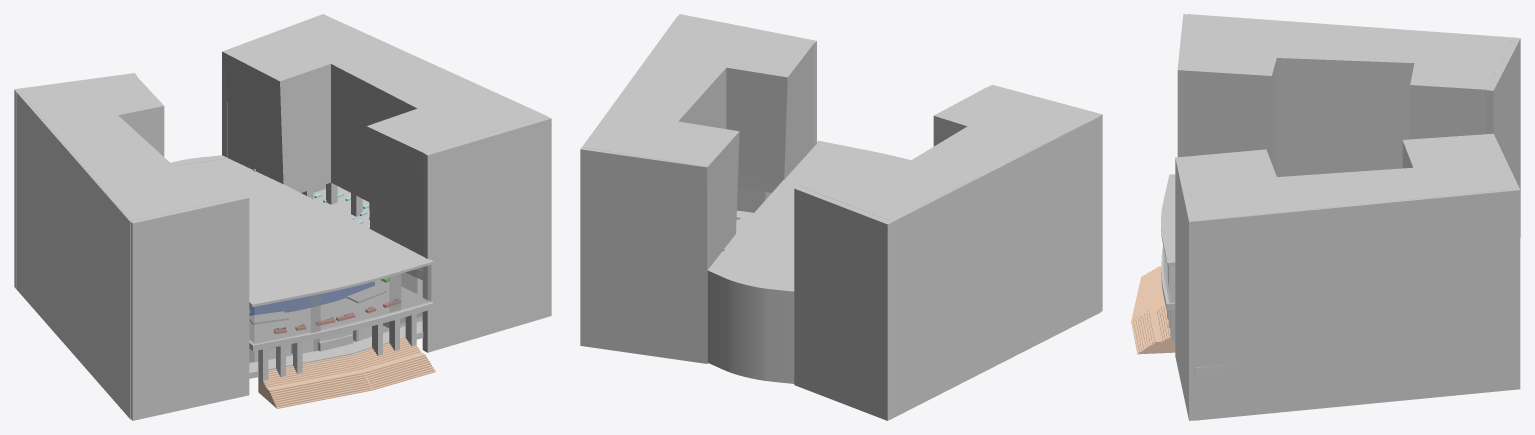
The model's file is academia-sinica.glb.
The picture shows the model from 3 angles, left to right: view 1: azimuth 30°, elevation 25°; view 2: azimuth 150°, elevation 25°; view 3: azimuth 270°, elevation 25°; orthographic projection.
Parts seen in each view (by area): view 1: floor__outside__building_r_main, floor__outside__building_r_front_wall, floor__outside__building_r_front_wall.001, floor__outside__building_r_right_wall.001, floor__outside__building_r_main.001, floor__outside__top_ceiling, floor__outside__front_4f_glass, floor__1f__stairs_1f, floor__4f__4f_base_base, floor__1f__1f_base, floor__4f__room_r0_4f, floor__outside__building_r_back_wall.001 (+2 smaller); view 2: floor__outside__building_r_right_wall.001, floor__outside__building_r_main, floor__outside__building_r_back_wall, floor__outside__building_r_back_wall.001, floor__outside__building_r_main.001, floor__outside__back_wall, floor__outside__top_ceiling, floor__outside__building_r_front_wall.001, floor__outside__building_r_front_wall, floor__elevators__elevator_shaft_r; view 3: floor__outside__building_r_right_wall, floor__outside__building_r_main.001, floor__outside__building_r_main, floor__outside__building_r_front_wall, floor__outside__building_r_back_wall.001, floor__1f__stairs_1f, floor__outside__building_r_back_wall, floor__outside__top_ceiling, floor__outside__building_r_front_wall.001, floor__4f__4f_base_base, floor__outside__building_r_right_wall.001, floor__outside__front_4f_glass.
Part boxes in pixels (x1=…): floor__outside__building_r_main: x1=222, y1=16, x2=545, y2=271; floor__outside__building_r_front_wall: x1=422, y1=116, x2=551, y2=352; floor__outside__building_r_front_wall.001: x1=130, y1=195, x2=249, y2=420; floor__outside__building_r_right_wall.001: x1=17, y1=92, x2=130, y2=419; floor__outside__building_r_main.001: x1=20, y1=76, x2=250, y2=312; floor__outside__top_ceiling: x1=174, y1=158, x2=433, y2=307; floor__outside__front_4f_glass: x1=249, y1=265, x2=430, y2=344; floor__1f__stairs_1f: x1=258, y1=337, x2=435, y2=408; floor__4f__4f_base_base: x1=249, y1=186, x2=433, y2=351; floor__1f__1f_base: x1=249, y1=316, x2=423, y2=378; floor__4f__room_r0_4f: x1=249, y1=281, x2=374, y2=315; floor__outside__building_r_back_wall.001: x1=14, y1=73, x2=137, y2=289; floor__outside__building_r_right_wall.001: x1=891, y1=116, x2=1100, y2=417; floor__outside__building_r_main: x1=585, y1=17, x2=813, y2=266; floor__outside__building_r_back_wall: x1=580, y1=146, x2=709, y2=363; floor__outside__building_r_back_wall.001: x1=794, y1=186, x2=893, y2=420; floor__outside__building_r_main.001: x1=800, y1=86, x2=1098, y2=220; floor__outside__back_wall: x1=707, y1=266, x2=794, y2=383; floor__outside__top_ceiling: x1=711, y1=140, x2=910, y2=287; floor__outside__building_r_front_wall.001: x1=989, y1=84, x2=1102, y2=311; floor__outside__building_r_front_wall: x1=677, y1=14, x2=816, y2=146; floor__elevators__elevator_shaft_r: x1=737, y1=187, x2=771, y2=212; floor__outside__building_r_right_wall: x1=1195, y1=189, x2=1512, y2=420; floor__outside__building_r_main.001: x1=1184, y1=14, x2=1511, y2=176; floor__outside__building_r_main: x1=1182, y1=133, x2=1514, y2=220; floor__outside__building_r_front_wall: x1=1175, y1=157, x2=1196, y2=420; floor__outside__building_r_back_wall.001: x1=1485, y1=37, x2=1520, y2=237; floor__1f__stairs_1f: x1=1131, y1=266, x2=1175, y2=354; floor__outside__building_r_back_wall: x1=1493, y1=134, x2=1520, y2=389; floor__outside__top_ceiling: x1=1161, y1=174, x2=1175, y2=265; floor__outside__building_r_front_wall.001: x1=1177, y1=14, x2=1189, y2=157; floor__4f__4f_base_base: x1=1161, y1=245, x2=1237, y2=373; floor__outside__building_r_right_wall.001: x1=1187, y1=14, x2=1512, y2=38; floor__outside__front_4f_glass: x1=1164, y1=251, x2=1174, y2=303.
Bounding box in the file's own units: 116 × 52.8 × 92.15.
